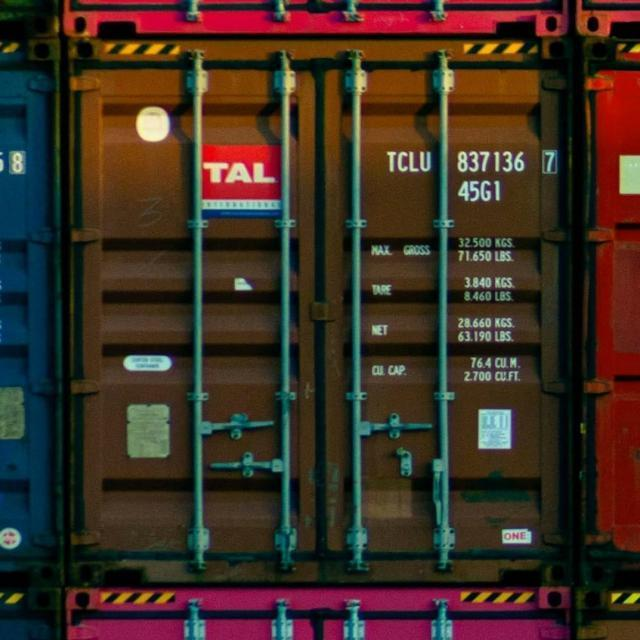ISO: (457, 178, 504, 204)
container_number: (390, 146, 562, 176)
